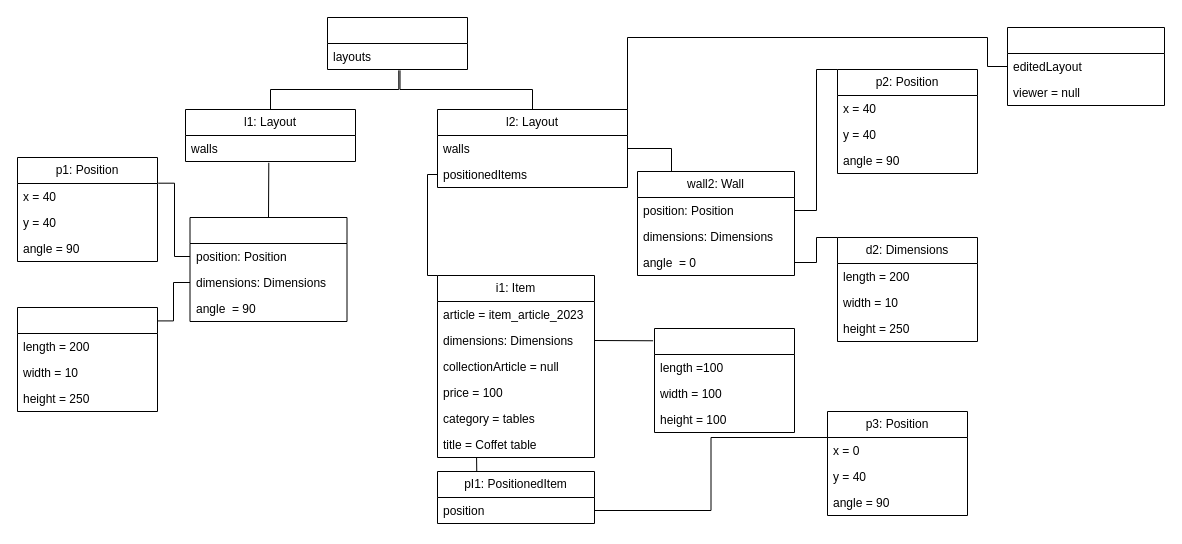
Image size: 1182x544. Some labels were removed from this diagram. The shapes that lost their labels are listed below. From the top down, each one's box as (x1, y1, x2, y2) in pixels, then its label:
(326, 16, 468, 70): ClientUser
(1006, 26, 1164, 106): c1: ConfiguratorStore
(189, 216, 347, 322): wall1: Wall
(16, 306, 158, 412): d1: Dimensions
(654, 328, 794, 432): d3: Dimensions
